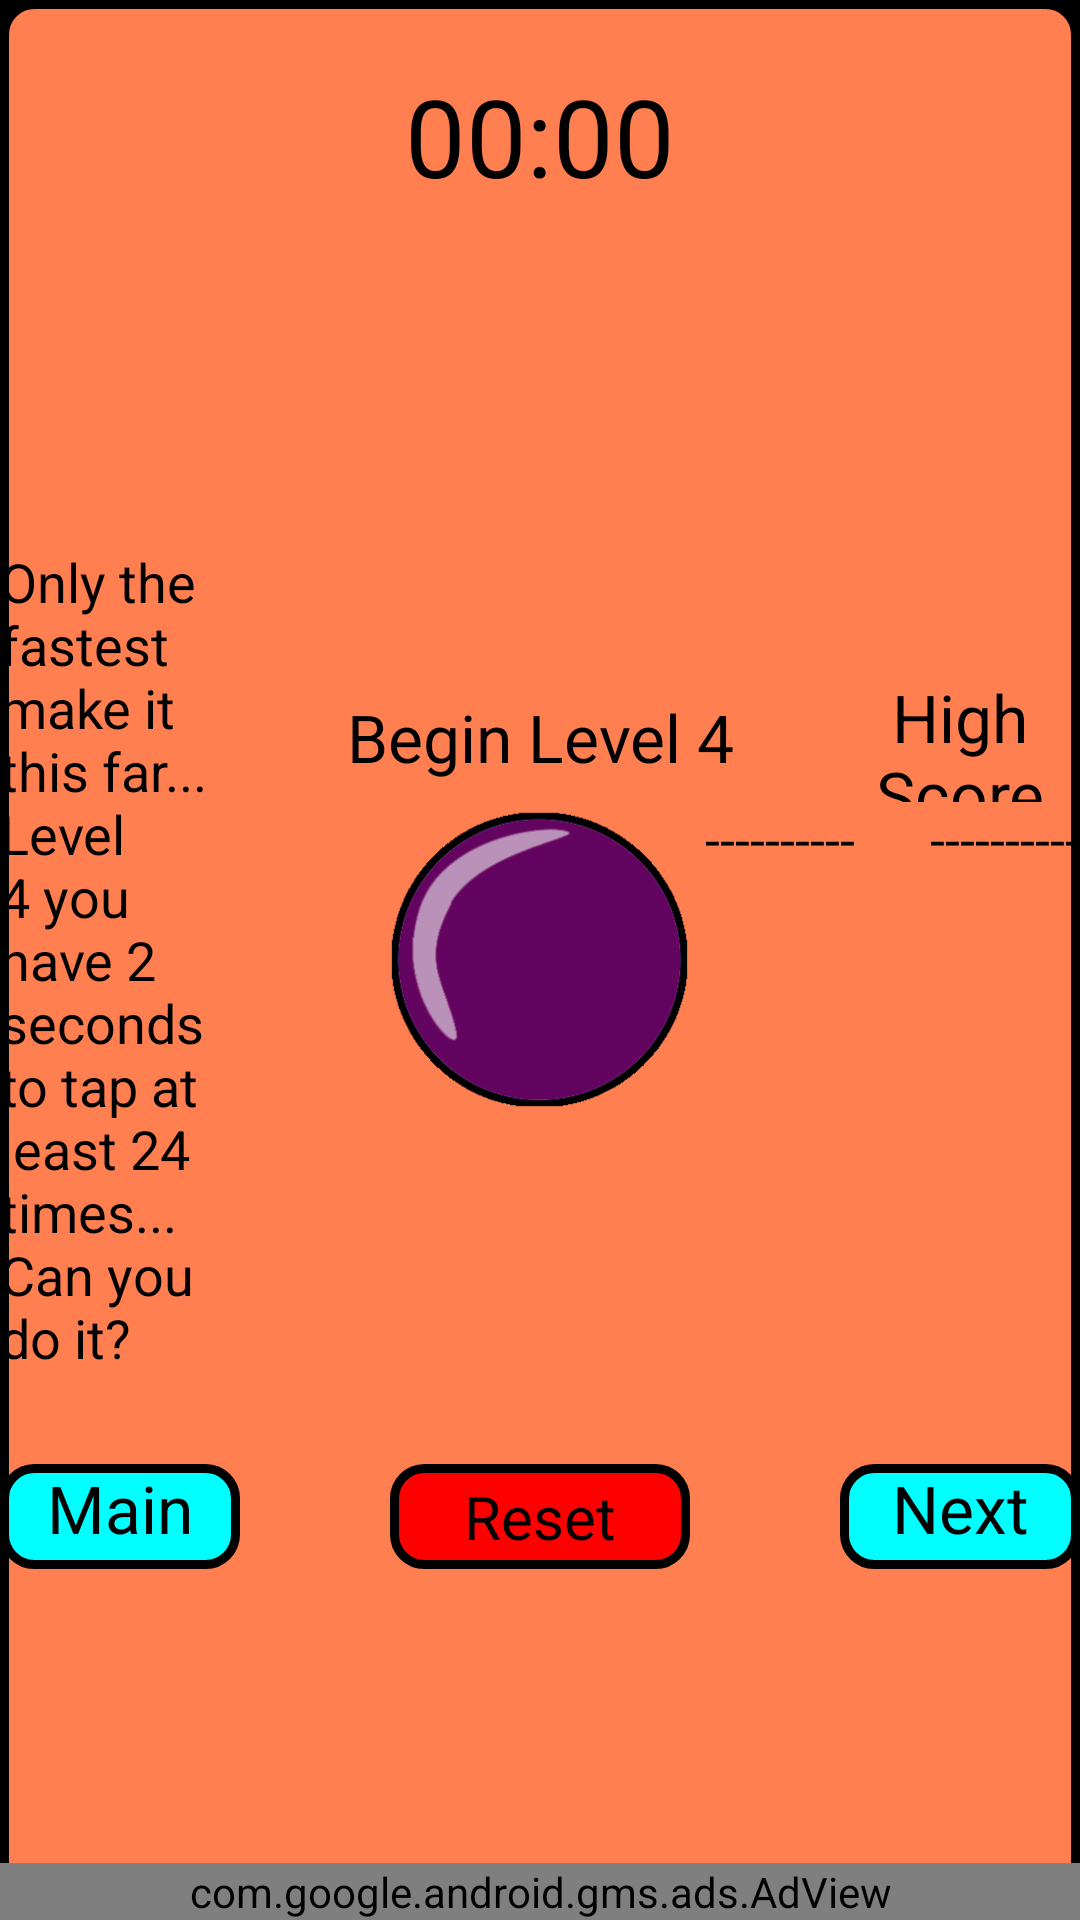

Icons on this 1080 × 1920 Android screen, each with its box as (x1, y1, x2, y2):
purplebutton: (391, 812, 688, 1107)
